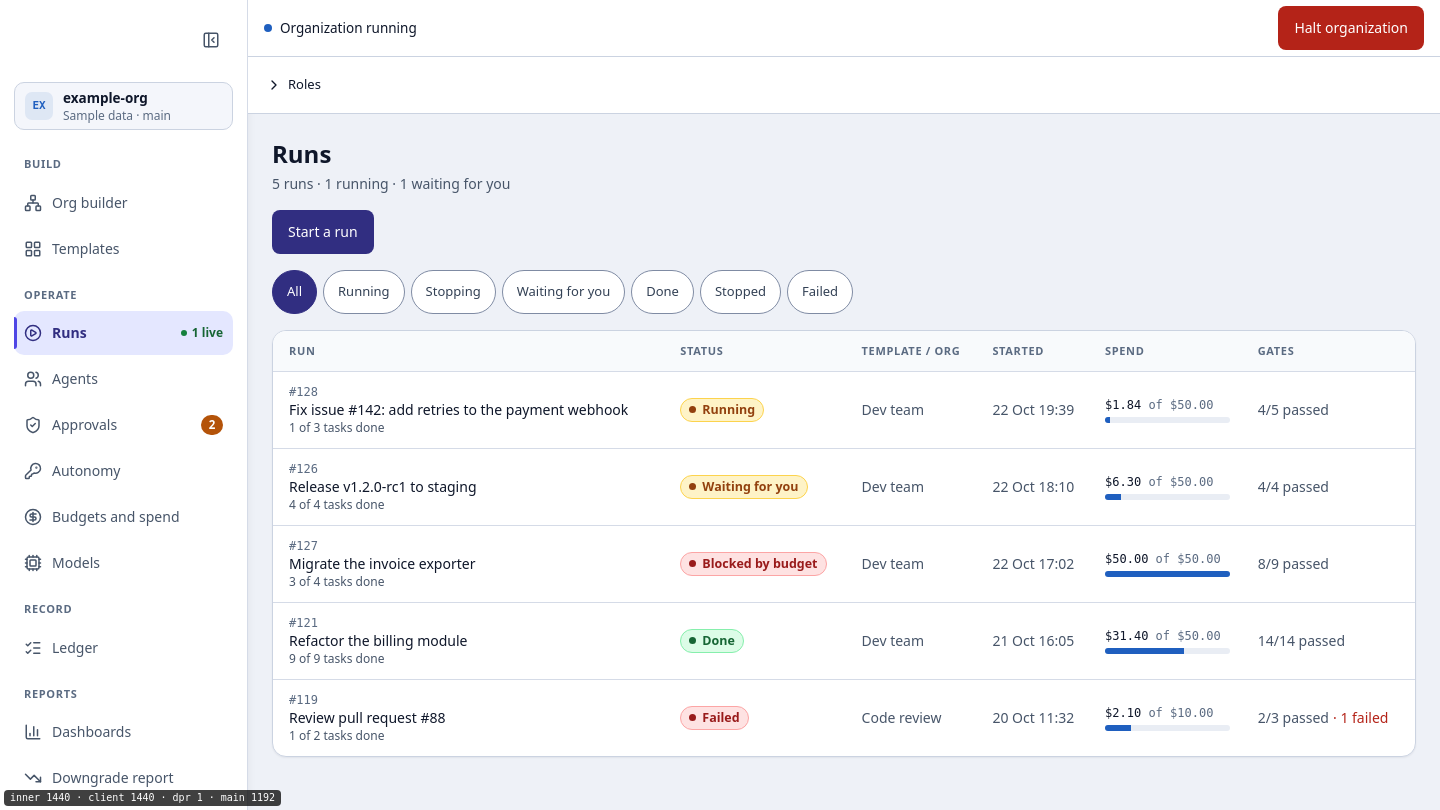
Test case: Start a run (first approval, the quickstart guide, section 9) › names the runner's refusal code when the accepted plan is refused afterwards
Click the button "Start a run" at (323, 232), box top-left (272, 210), bottom-right (374, 254)
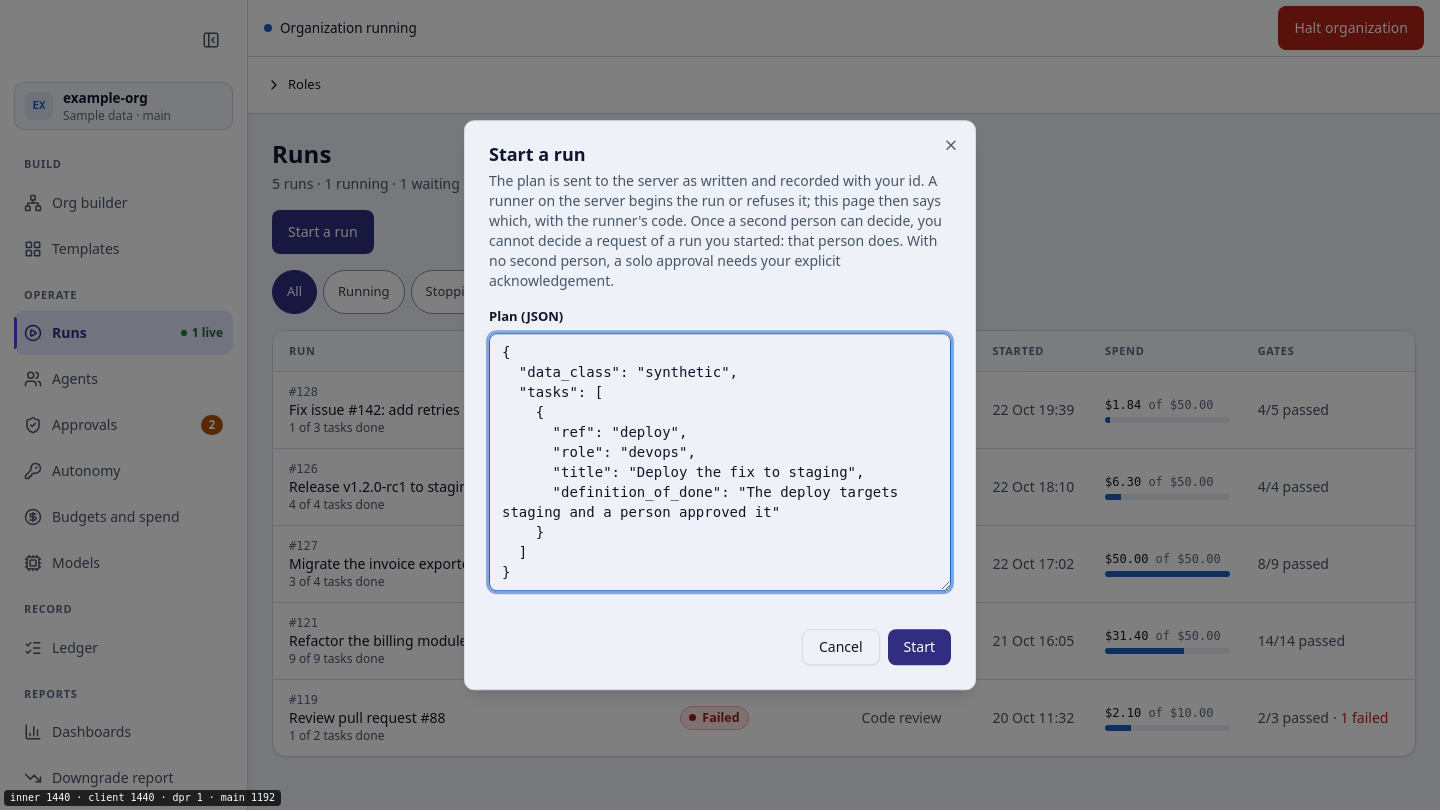
Click the button "Start" at (919, 647), box top-left (888, 629), bottom-right (951, 665)
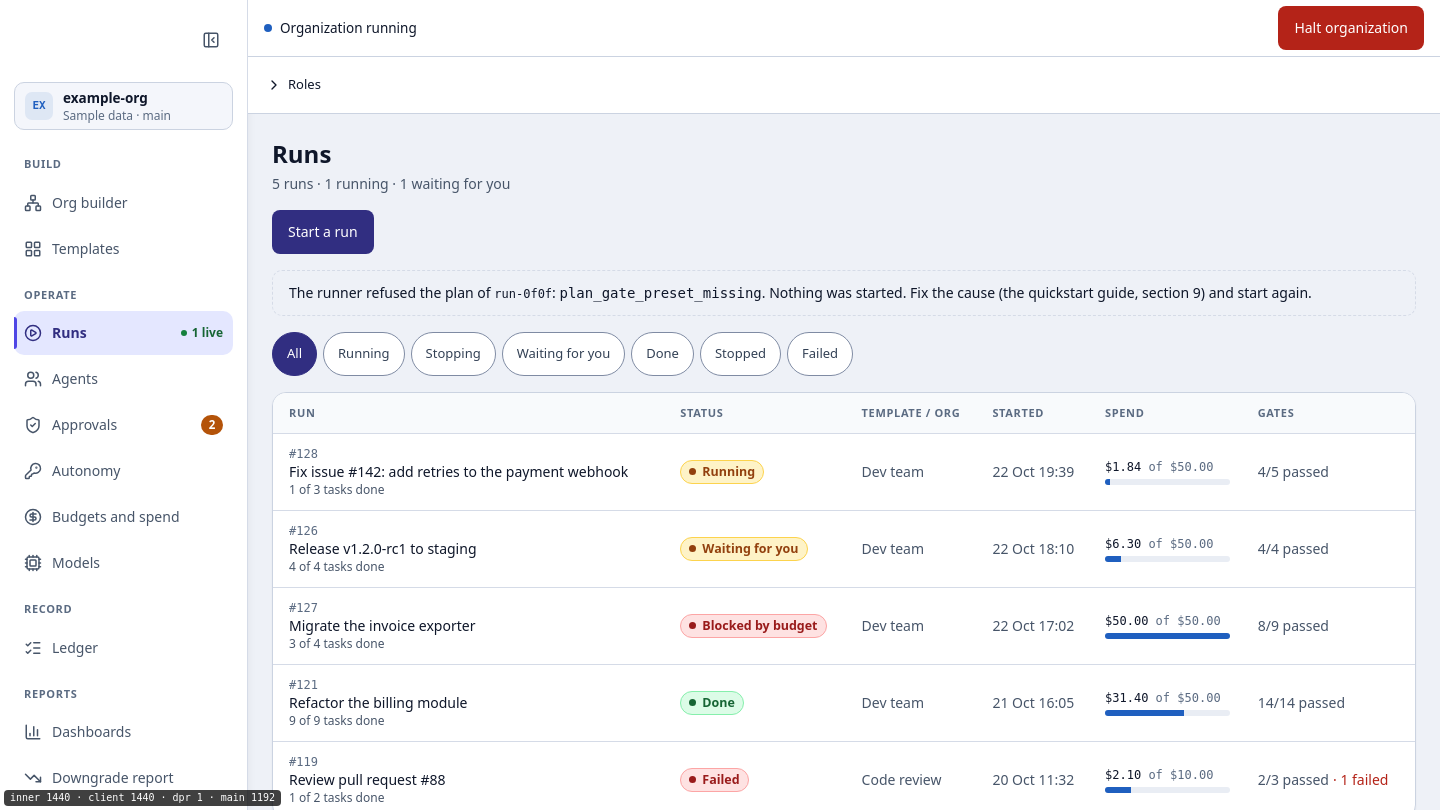
Result: the message with test id "run-refused" shows "run-0f0f" at top-left (494, 287), bottom-right (552, 301)
Result: the message with test id "run-refused" shows "plan_gate_preset_missing" at top-left (560, 285), bottom-right (762, 301)
